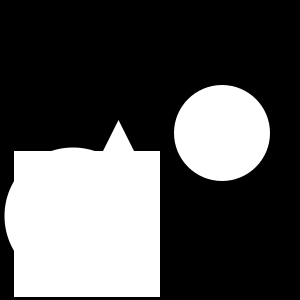circle: (14, 151, 160, 297), (196, 124, 222, 150)
rectangle: (5, 148, 142, 284), (174, 85, 270, 181)
triangle: (103, 120, 134, 151)
